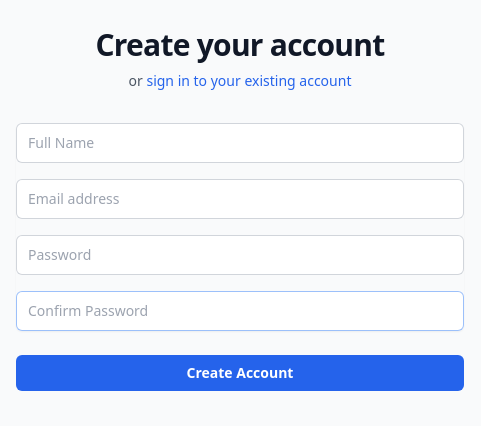
Test: RegisterPage › Password Strength Indicator › shows password strength when password is entered
This screenshot has width=481, height=426.
Type "Test123!" into the password field with placeholder "Password" at (240, 255), box [16, 235, 464, 275]
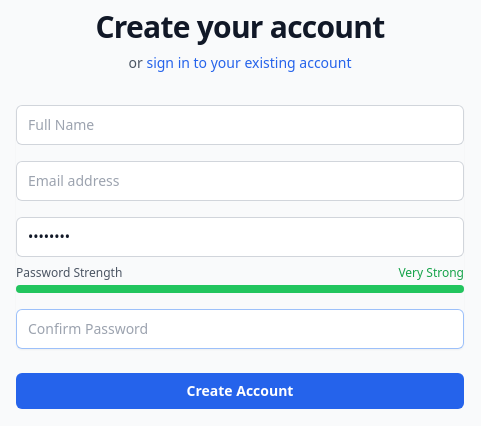
expect the text "Password Strength" is shown: met, box [16, 265, 122, 281]
expect the text "Very Strong" is shown: met, box [398, 265, 464, 281]
